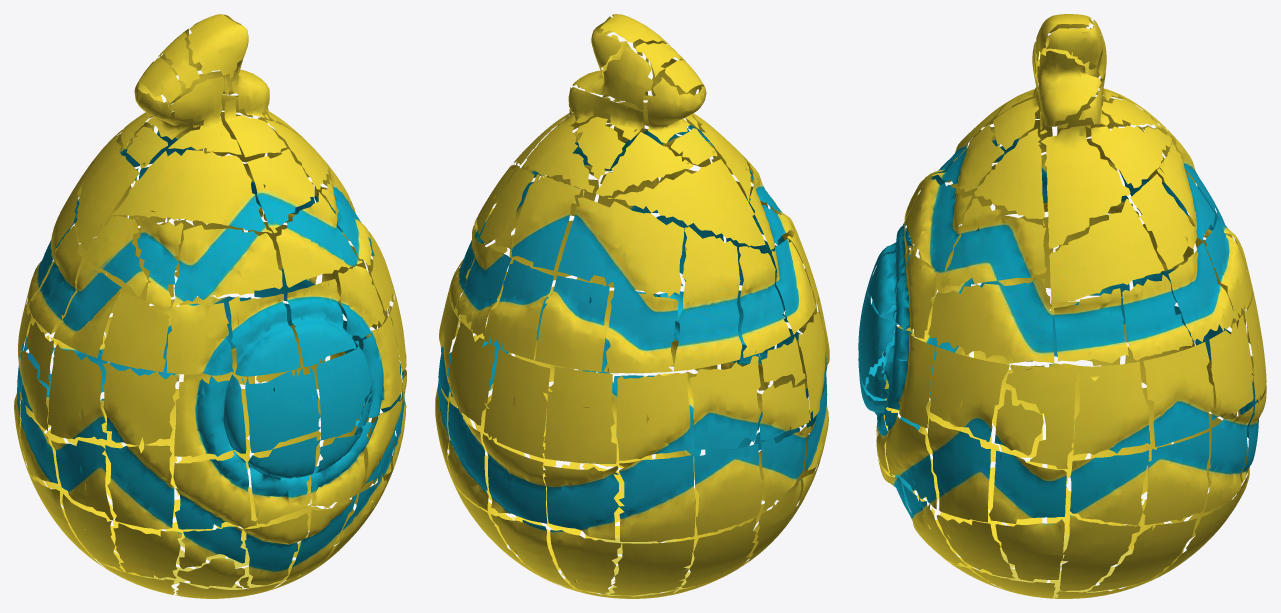
The model's file is oeuf.glb.
3 views of the same model, side by side, from view 1: azimuth 30°, elevation 25°; view 2: azimuth 150°, elevation 25°; view 3: azimuth 270°, elevation 25° (orthographic). The views are drawn at different scales.
Visible parts, largest first — view 1: mesh_node; view 2: mesh_node; view 3: mesh_node.
Boxes of the visible parts, box(x1,y1,x2,y2) form: mesh_node: box(14, 14, 406, 598); mesh_node: box(435, 14, 829, 598); mesh_node: box(858, 14, 1266, 598).
Bounding box in the file's own units: 1.25 × 1.9 × 1.27.
1 material, 1 textured.
